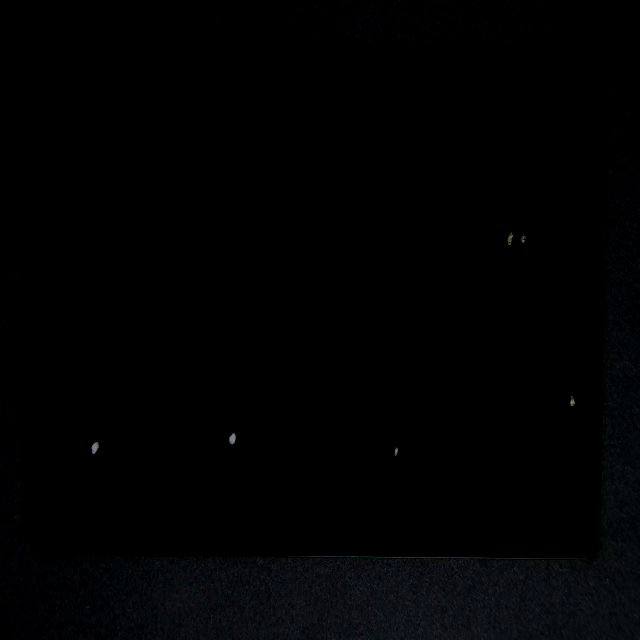stain: (206, 184, 592, 640), (288, 157, 640, 590), (142, 202, 369, 623), (296, 128, 640, 346), (60, 192, 147, 630)
